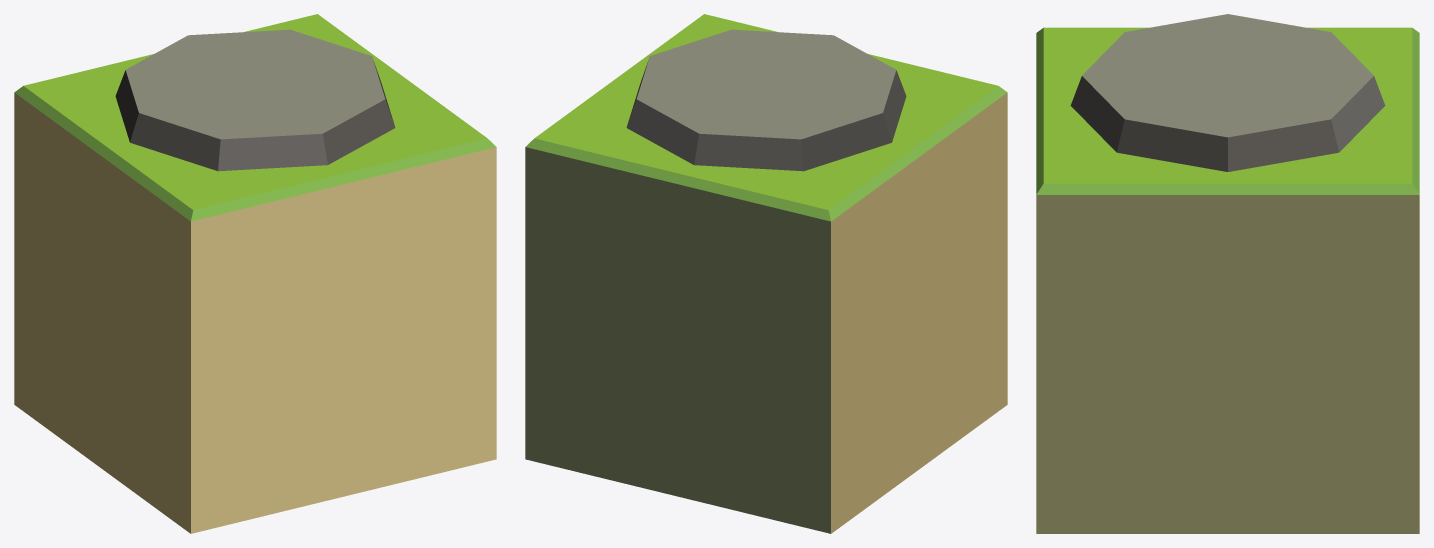
Rendered from base_grass.FBX.
3 views of the same model, side by side, from view 1: azimuth 30°, elevation 25°; view 2: azimuth 150°, elevation 25°; view 3: azimuth 270°, elevation 25° (orthographic). The views are drawn at different scales.
Visible parts, largest first — view 1: base_grass; view 2: base_grass; view 3: base_grass.
Part boxes in pixels (left/top/right/bottom): base_grass: left=14, top=14, right=496, bottom=533; base_grass: left=525, top=14, right=1007, bottom=533; base_grass: left=1036, top=14, right=1419, bottom=533.
Bounding box in the file's own units: 100 × 109 × 100.
